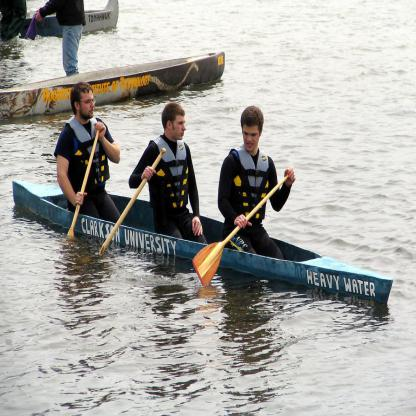face: (243, 125, 260, 152), (81, 91, 96, 119), (173, 116, 187, 141)
